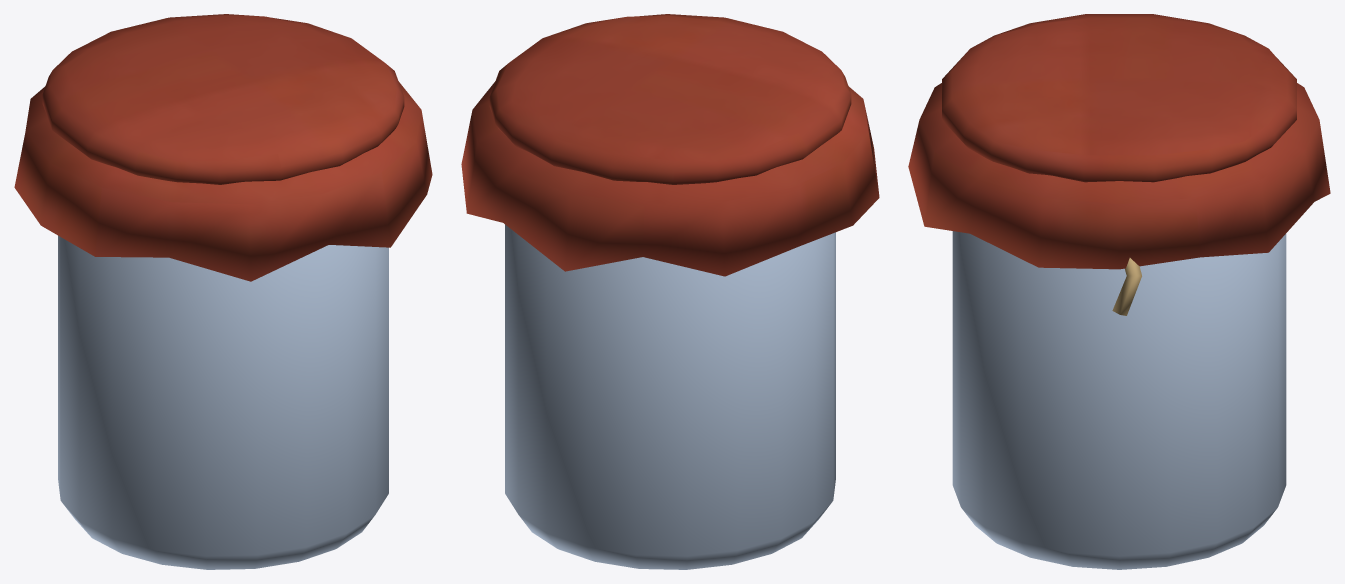
The model's file is pellet_jar_mix.glb.
The picture shows the model from 3 angles, left to right: view 1: azimuth 30°, elevation 25°; view 2: azimuth 150°, elevation 25°; view 3: azimuth 270°, elevation 25°; orthographic projection.
Parts seen in each view (by area): view 1: pellet_jar_mix_glass, pellet_jar_mix_felt_red; view 2: pellet_jar_mix_glass, pellet_jar_mix_felt_red; view 3: pellet_jar_mix_glass, pellet_jar_mix_felt_red, pellet_jar_mix_hemp.
Part boxes in pixels (x1,y1,x2,y2): pellet_jar_mix_glass: [58, 235, 388, 569]; pellet_jar_mix_felt_red: [14, 14, 432, 281]; pellet_jar_mix_glass: [505, 224, 835, 569]; pellet_jar_mix_felt_red: [461, 14, 879, 276]; pellet_jar_mix_glass: [952, 231, 1286, 569]; pellet_jar_mix_felt_red: [908, 14, 1330, 269]; pellet_jar_mix_hemp: [1112, 258, 1141, 315].
Bounding box in the file's own units: 0.2363 × 0.2579 × 0.228.
7 materials, 5 textured.
